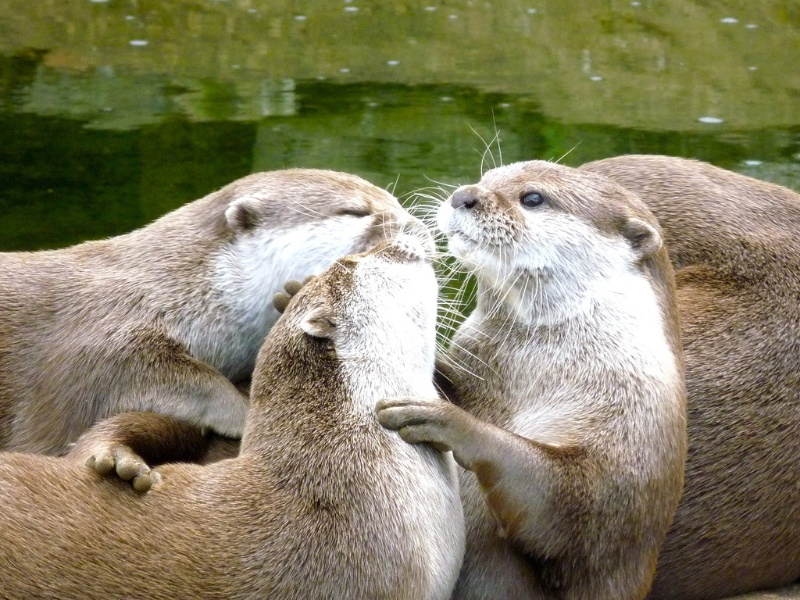minkish: (16, 220, 445, 600), (436, 142, 702, 600), (1, 165, 415, 442)
